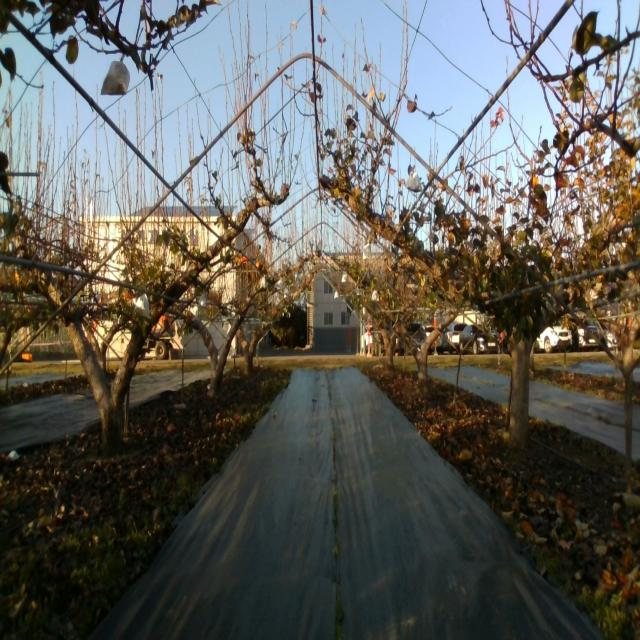pearbags: (100, 60, 130, 96), (134, 292, 150, 320), (405, 173, 424, 194), (362, 243, 372, 260)
